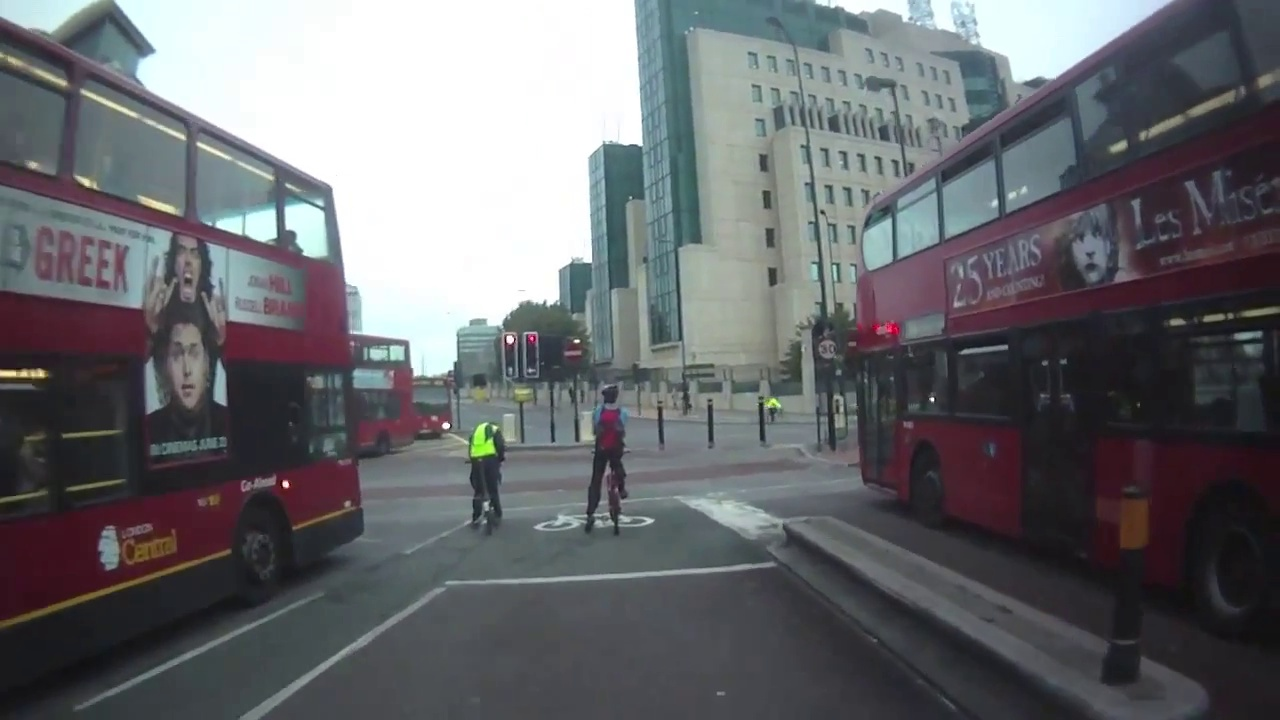cyclist_back: (586, 382, 636, 538), (463, 422, 521, 544)
